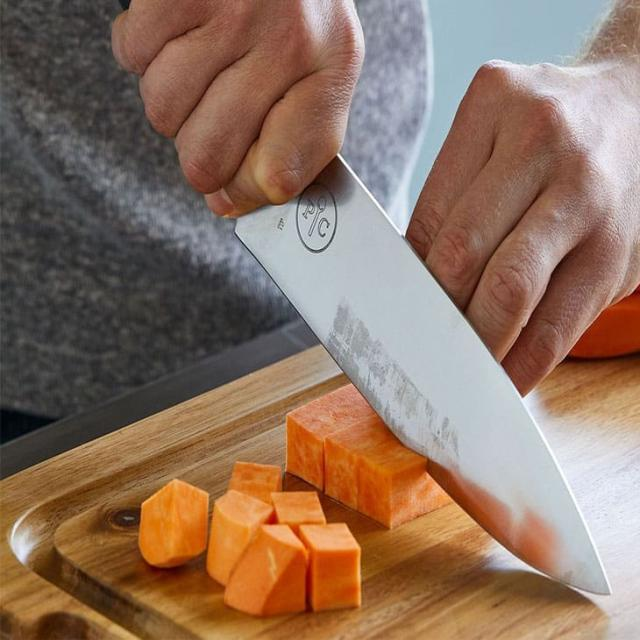Pisau: (225, 141, 638, 609)
